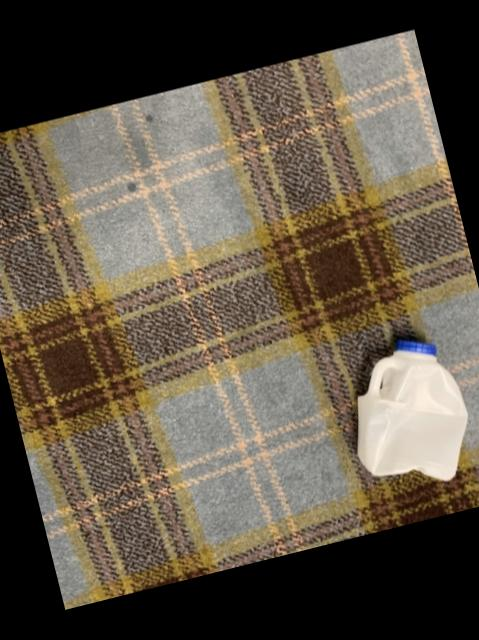plastic: (358, 338, 468, 479)
